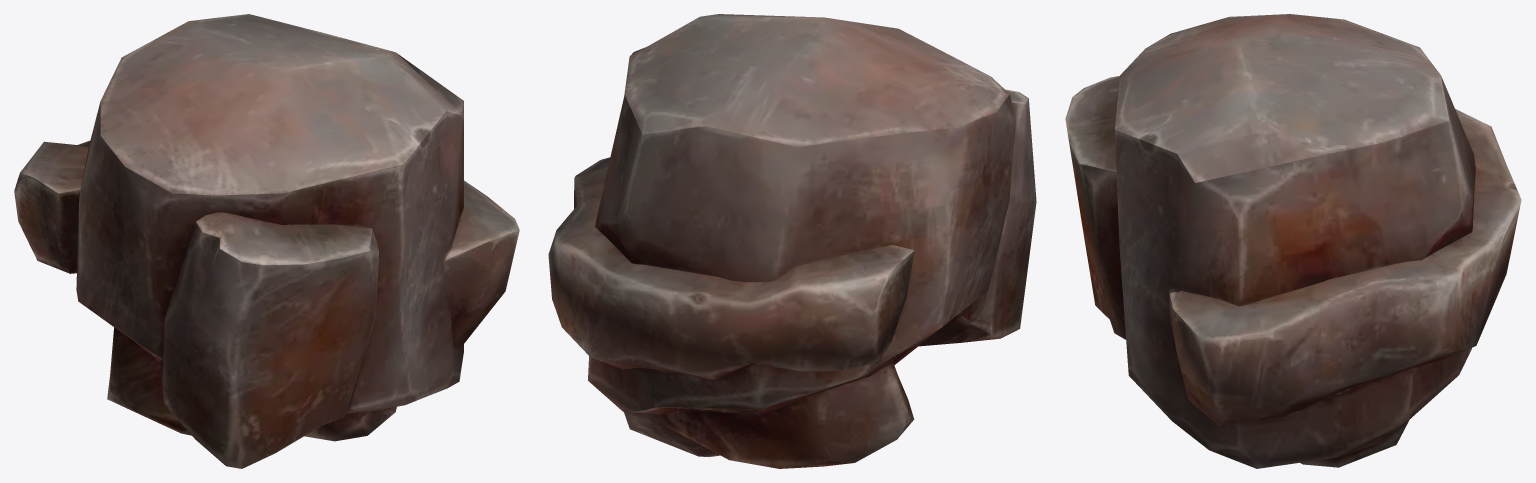
The picture shows the model from 3 angles, left to right: view 1: azimuth 30°, elevation 25°; view 2: azimuth 150°, elevation 25°; view 3: azimuth 270°, elevation 25°; orthographic projection. The views are drawn at different scales.
Visible parts, largest first — view 1: SM_Iron_Ore_Small_01_LOD0; view 2: SM_Iron_Ore_Small_01_LOD0; view 3: SM_Iron_Ore_Small_01_LOD0.
Part boxes in pixels (x1,y1,x2,y2): SM_Iron_Ore_Small_01_LOD0: (14,14,519,468); SM_Iron_Ore_Small_01_LOD0: (548,14,1036,468); SM_Iron_Ore_Small_01_LOD0: (1065,14,1521,468).
Bounding box in the file's own units: 0.2491 × 0.2454 × 0.261.
Materials: 1 (1 with a texture image).
